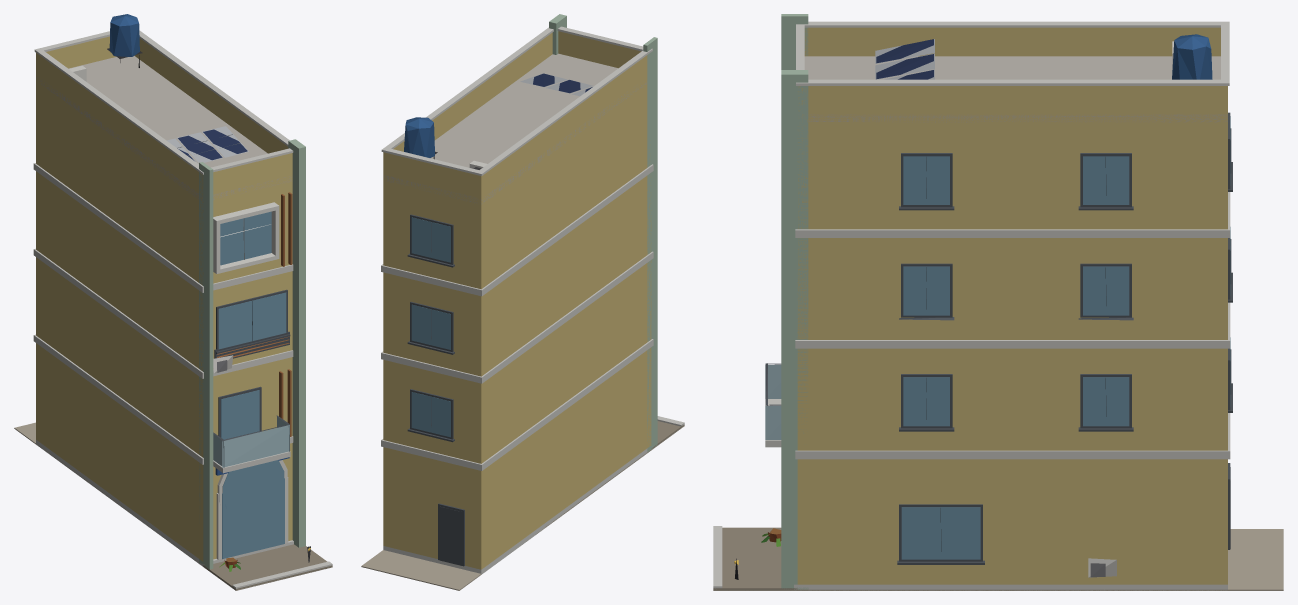
The model's file is bay2_right.glb.
3 views of the same model, side by side, from view 1: azimuth 30°, elevation 25°; view 2: azimuth 150°, elevation 25°; view 3: azimuth 270°, elevation 25° (orthographic). The views are drawn at different scales.
Visible parts, largest first — view 1: body; view 2: body; view 3: body.
Boxes of the visible parts, <box> form: body: <box>14,14,332,590</box>; body: <box>361,14,684,590</box>; body: <box>713,14,1283,590</box>.
Bounding box in the file's own units: 4.42 × 16.71 × 15.9.
